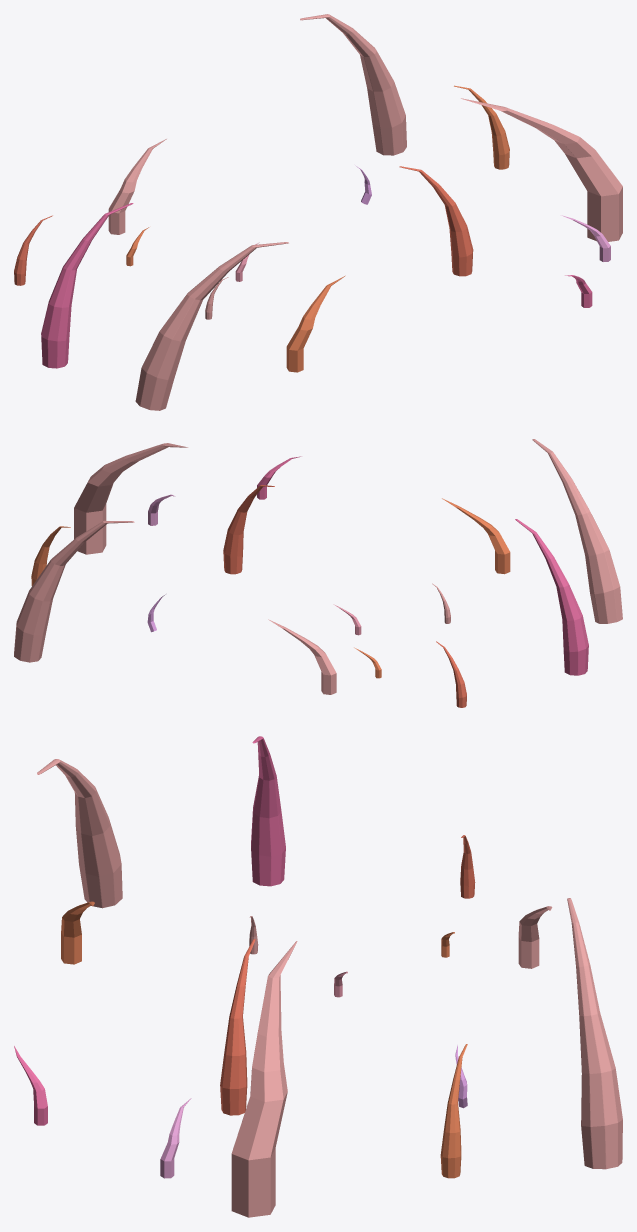
The model's file is tree.gltf.
The picture shows the model from 3 angles, top to bottom: view 1: azimuth 30°, elevation 25°; view 2: azimuth 150°, elevation 25°; view 3: azimuth 270°, elevation 25°; orthographic projection. The views are drawn at different scales.
Parts seen in each view (by area): view 1: Circle.002, Circle.003, Circle.005, Circle.006, Circle.018, Circle.009, Circle.014, Circle.016, Circle.011; view 2: Circle.002, Circle.005, Circle.003, Circle.006, Circle.018, Circle.009, Circle.014, Circle.016, Circle.011; view 3: Circle.003, Circle.005, Circle.002, Circle.006, Circle.018, Circle.016, Circle.014, Circle.009, Circle.004, Circle.001, Circle.011.
Part boxes in pixels (x1=…): Circle.002: x1=135, y1=242, x2=288, y2=410; Circle.003: x1=461, y1=98, x2=622, y2=241; Circle.005: x1=300, y1=14, x2=406, y2=155; Circle.006: x1=41, y1=203, x2=133, y2=368; Circle.018: x1=399, y1=166, x2=473, y2=276; Circle.009: x1=286, y1=275, x2=345, y2=372; Circle.014: x1=108, y1=139, x2=166, y2=234; Circle.016: x1=454, y1=85, x2=509, y2=169; Circle.011: x1=14, y1=215, x2=52, y2=285; Circle.002: x1=532, y1=439, x2=622, y2=623; Circle.005: x1=14, y1=520, x2=134, y2=662; Circle.003: x1=74, y1=443, x2=188, y2=554; Circle.006: x1=515, y1=519, x2=588, y2=675; Circle.018: x1=223, y1=485, x2=274, y2=574; Circle.009: x1=442, y1=498, x2=510, y2=574; Circle.014: x1=268, y1=619, x2=336, y2=694; Circle.016: x1=31, y1=526, x2=70, y2=585; Circle.011: x1=436, y1=641, x2=466, y2=707; Circle.003: x1=231, y1=941, x2=297, y2=1217; Circle.005: x1=567, y1=898, x2=622, y2=1169; Circle.002: x1=37, y1=759, x2=122, y2=908; Circle.006: x1=251, y1=736, x2=285, y2=886; Circle.018: x1=220, y1=939, x2=255, y2=1115; Circle.016: x1=440, y1=1044, x2=467, y2=1178; Circle.014: x1=518, y1=906, x2=552, y2=968; Circle.009: x1=61, y1=901, x2=94, y2=964; Circle.004: x1=160, y1=1098, x2=191, y2=1178; Circle.001: x1=14, y1=1046, x2=47, y2=1125; Circle.011: x1=460, y1=835, x2=475, y2=898.
Bounding box in the file's own units: 111 × 31.08 × 83.17.
